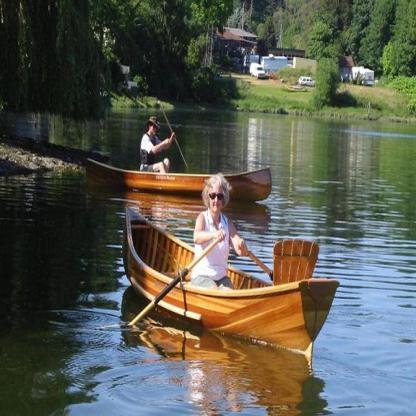face: (209, 189, 224, 214), (151, 125, 157, 135)
